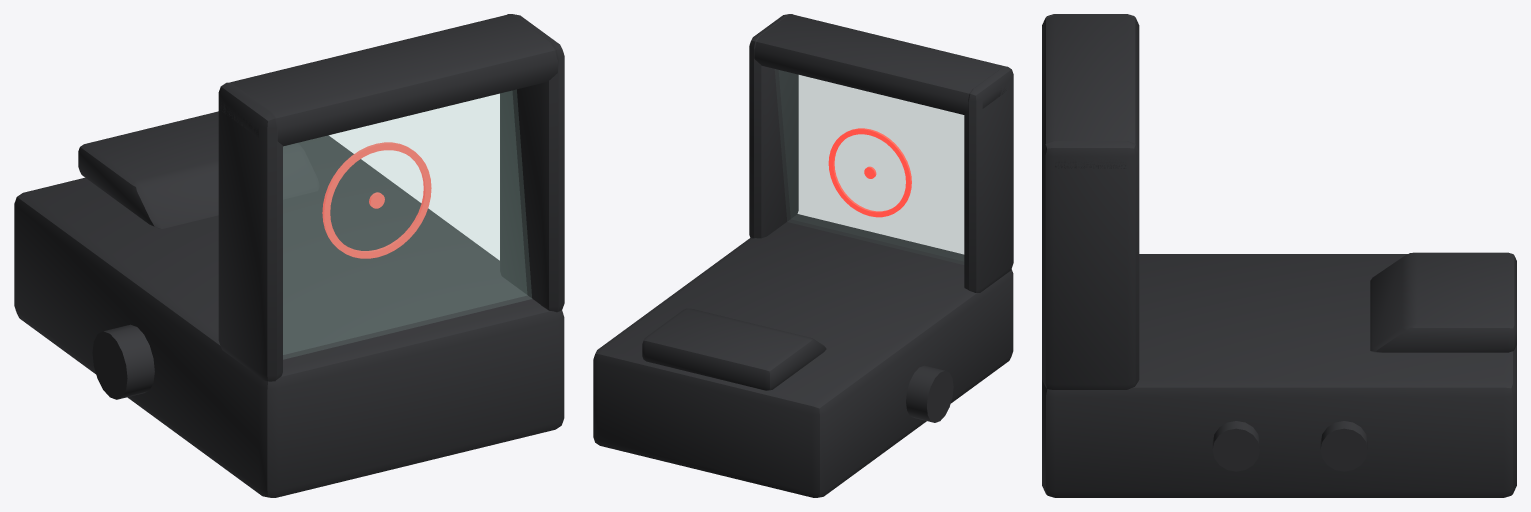
File: reflex.glb
3 renders of one model, left to right at view 1: azimuth 30°, elevation 25°; view 2: azimuth 150°, elevation 25°; view 3: azimuth 270°, elevation 25°, orthographic. The views are drawn at different scales.
Parts seen in each view (by area): view 1: Base, Glass, HoodTop, HoodLeft, HoodRight, Emitter, ClampScrew, Ring; view 2: Base, Glass, HoodTop, HoodLeft, Emitter, HoodRight, ClampScrew, Ring; view 3: Base, HoodRight, Emitter, HoodTop, Button1, Button0.
Boxes of the visible parts, x1=… form: Base: x1=14, y1=135, x2=564, y2=497; Glass: x1=283, y1=90, x2=531, y2=358; HoodTop: x1=220, y1=14, x2=557, y2=146; HoodLeft: x1=218, y1=82, x2=282, y2=381; HoodRight: x1=500, y1=14, x2=564, y2=312; Emitter: x1=78, y1=111, x2=319, y2=228; ClampScrew: x1=92, y1=324, x2=154, y2=399; Ring: x1=322, y1=142, x2=431, y2=258; Base: x1=593, y1=214, x2=1013, y2=497; Glass: x1=775, y1=69, x2=963, y2=264; HoodTop: x1=754, y1=14, x2=1006, y2=114; HoodLeft: x1=964, y1=66, x2=1013, y2=292; Emitter: x1=642, y1=308, x2=826, y2=390; HoodRight: x1=749, y1=14, x2=798, y2=238; ClampScrew: x1=906, y1=365, x2=953, y2=422; Ring: x1=828, y1=128, x2=911, y2=217; Base: x1=1042, y1=254, x2=1516, y2=497; HoodRight: x1=1042, y1=141, x2=1139, y2=389; Emitter: x1=1370, y1=252, x2=1516, y2=352; HoodTop: x1=1042, y1=14, x2=1139, y2=168; Button1: x1=1320, y1=421, x2=1367, y2=471; Button0: x1=1212, y1=421, x2=1259, y2=471.
Bounding box in the file's own units: 0.0344 × 0.0365 × 0.044.
